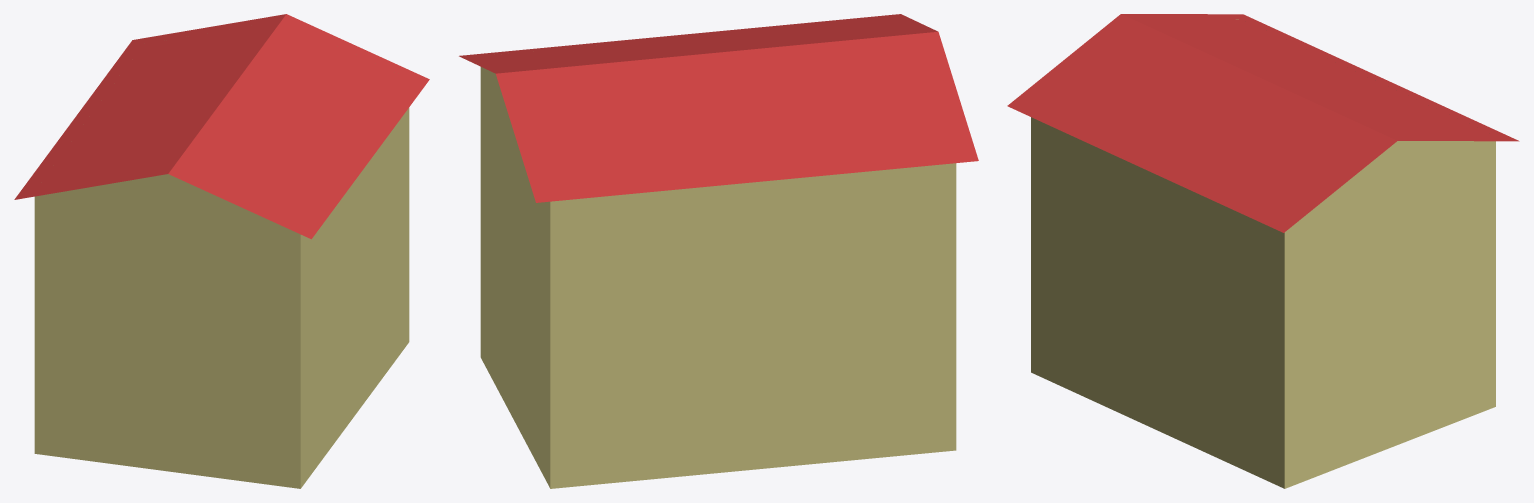
3 renders of one model, left to right at view 1: azimuth 30°, elevation 25°; view 2: azimuth 150°, elevation 25°; view 3: azimuth 270°, elevation 25°, orthographic. The views are drawn at different scales.
Bounding box in the file's own units: 15.18 × 15.03 × 10.15.
